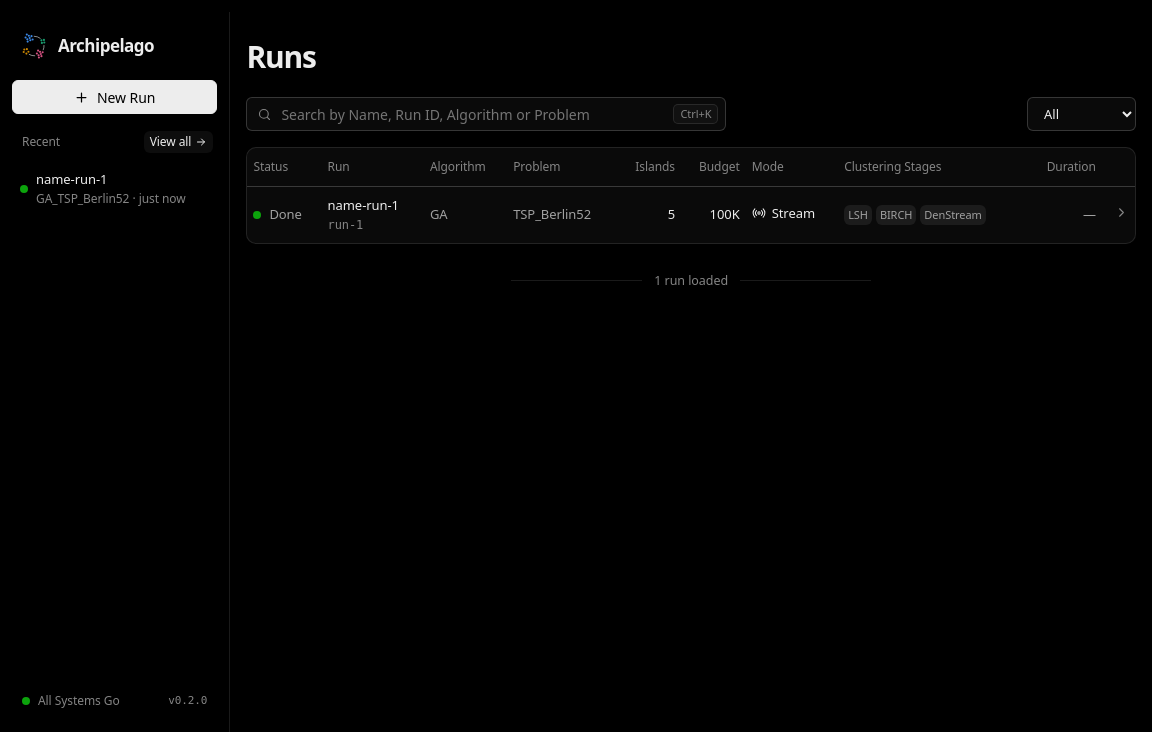
Test case: App › opens the new run page from the sidebar's New Run button
Click the link "New Run" at {"x": 115, "y": 97}, box x1=12 y1=80 x2=217 y2=114
(page scrolled)
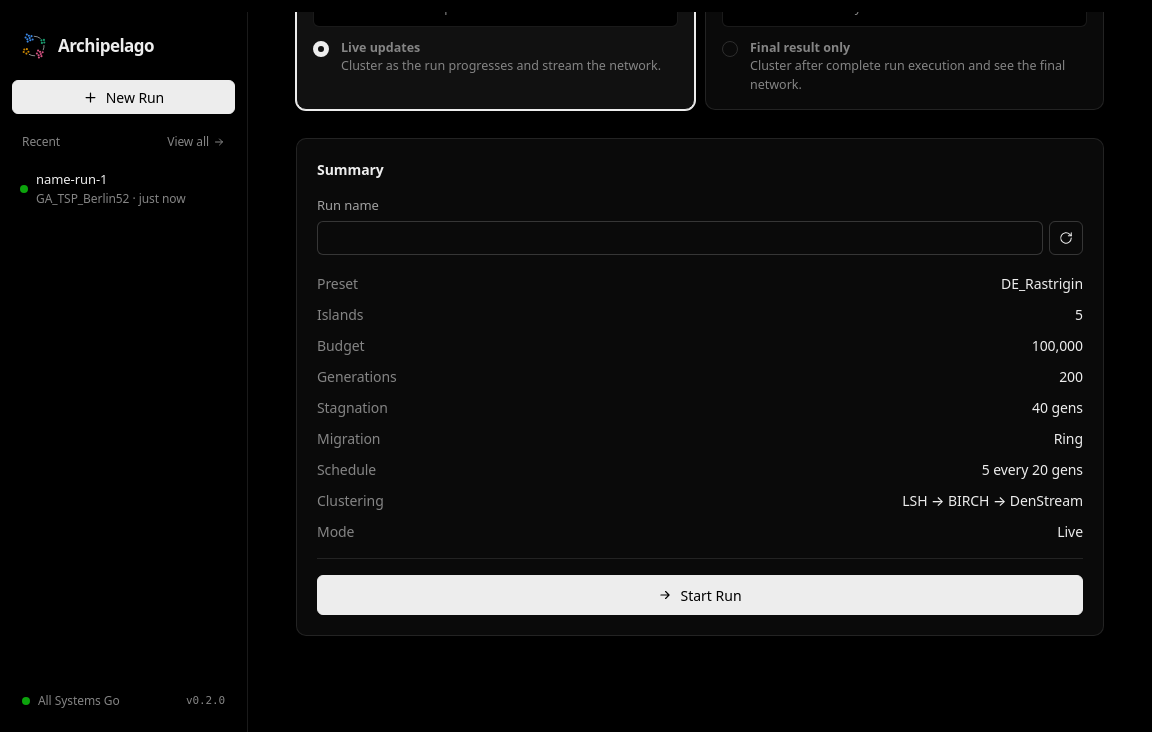
Result: the button "Start Run" is shown at x1=658 y1=585 x2=742 y2=606
